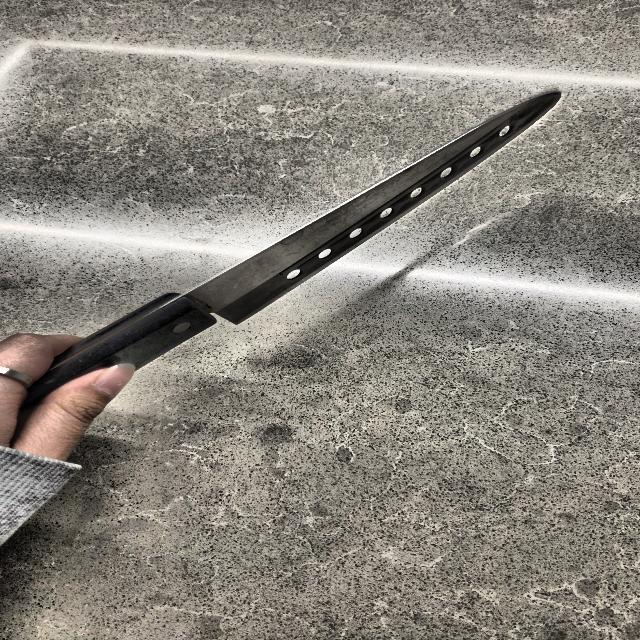knife: (18, 88, 569, 440)
